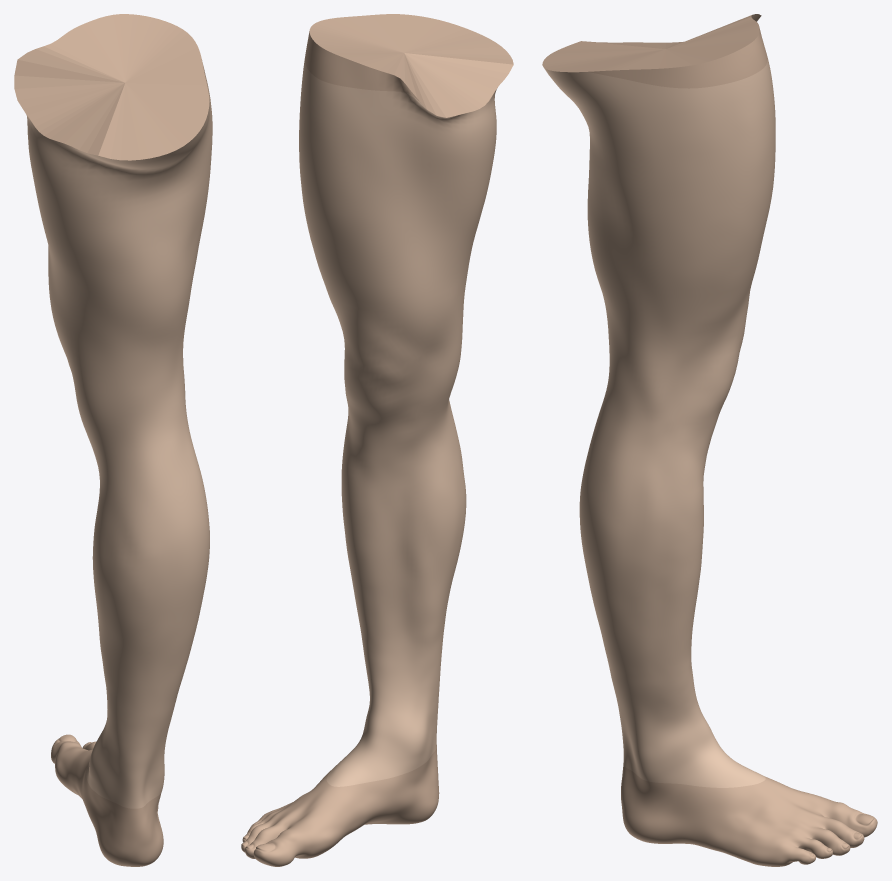
File: male-leg.glb
3 views of the same model, side by side, from view 1: azimuth 30°, elevation 25°; view 2: azimuth 150°, elevation 25°; view 3: azimuth 270°, elevation 25° (orthographic). The views are drawn at different scales.
Parts seen in each view (by area): view 1: paintable, context; view 2: paintable, context; view 3: paintable, context.
Part boxes in pixels (left/top/right/bottom): paintable: left=25, top=76, right=212, bottom=808; context: left=14, top=14, right=209, bottom=866; paintable: left=299, top=58, right=496, bottom=786; context: left=241, top=14, right=513, bottom=866; paintable: left=544, top=19, right=775, bottom=787; context: left=542, top=14, right=877, bottom=866.
Size of the model in its own units: 204 by 907 by 338.
